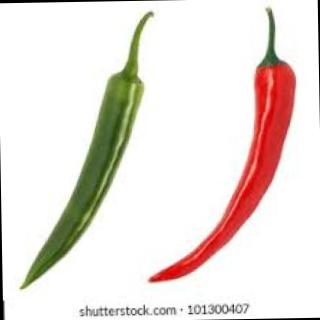Cabai Hijau: (12, 11, 176, 290)
Cabai Merah: (140, 11, 308, 298)
